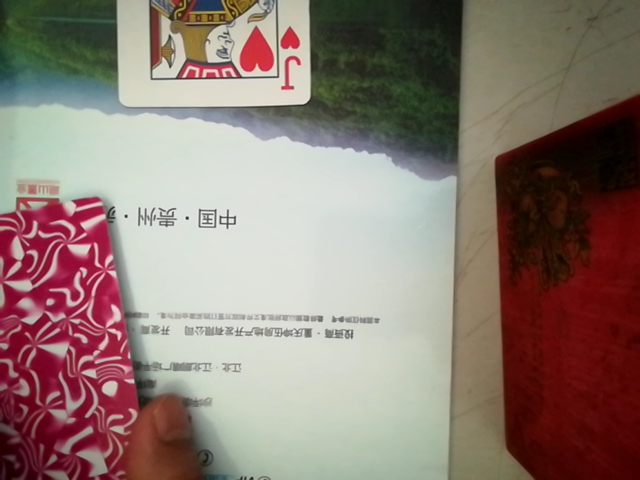hx j: (107, 1, 319, 115)
